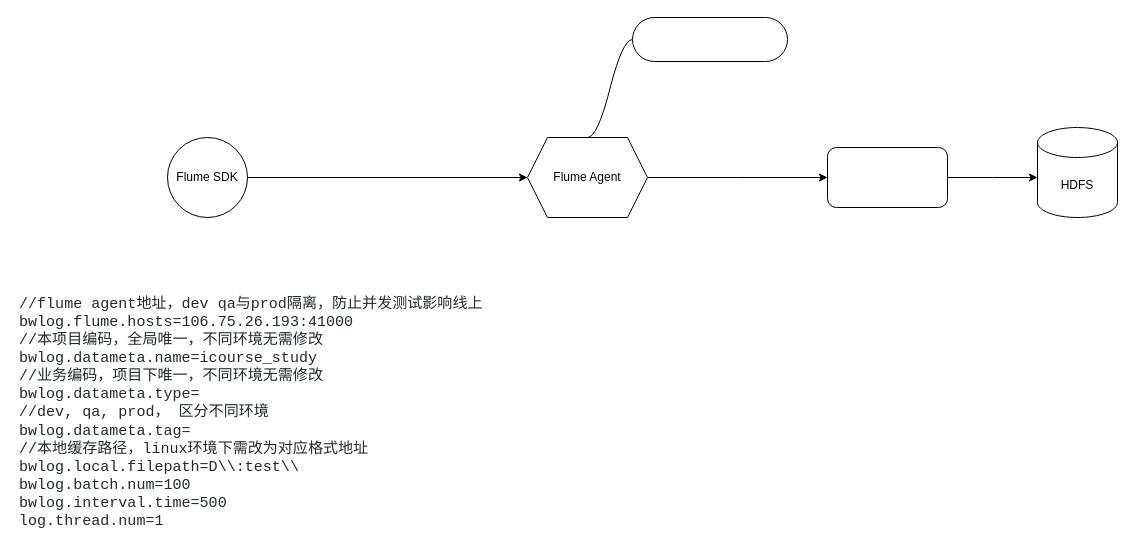
Some shapes in this 1135 by 559 pixel diagram are drawn without their labels. Each missing label, with the centre of its shape:
"Kafka" goes at (x=887, y=177).
"qa,dev与prod分离。 代码、配置完全相同" goes at (x=710, y=39).
